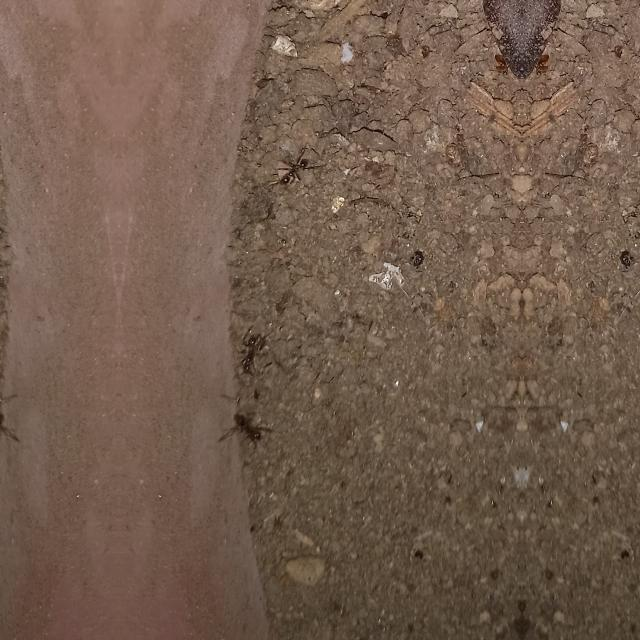Apheanogaster: (276, 144, 314, 192), (228, 406, 266, 450), (235, 326, 262, 379), (0, 404, 8, 450)
